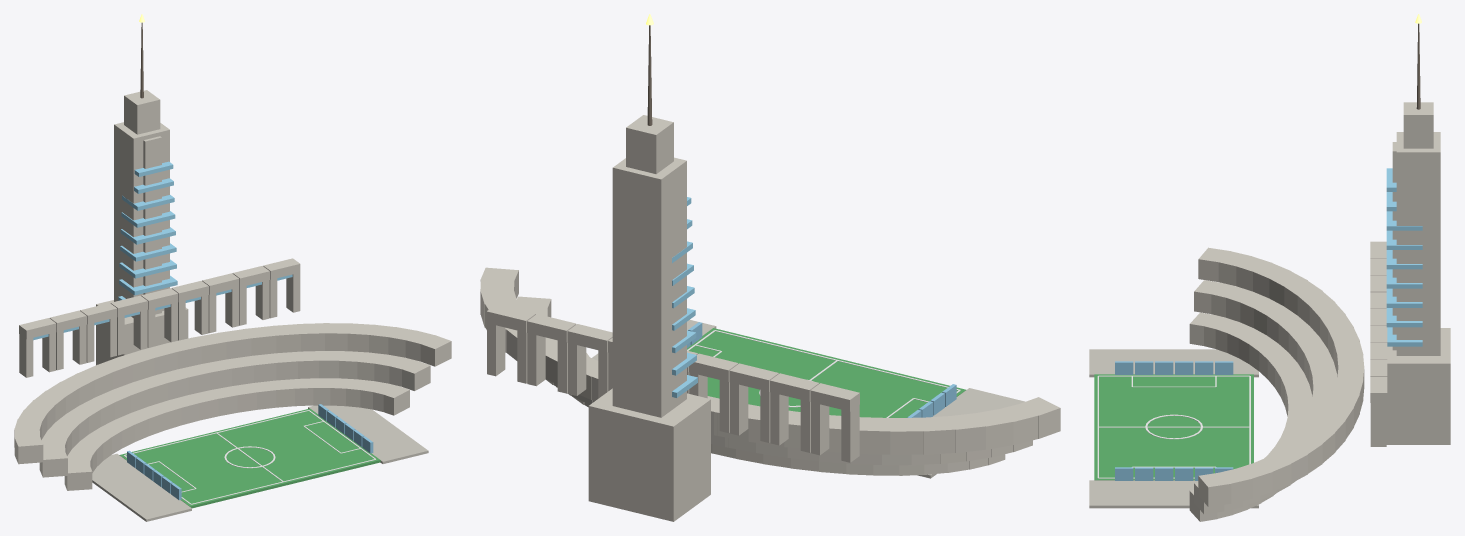
File: SM_Stage_Centenario_UY.glb
The picture shows the model from 3 angles, left to right: view 1: azimuth 30°, elevation 25°; view 2: azimuth 150°, elevation 25°; view 3: azimuth 270°, elevation 25°; orthographic projection. The views are drawn at different scales.
Visible parts, largest first — view 1: SM_Stage_Centenario_UY; view 2: SM_Stage_Centenario_UY; view 3: SM_Stage_Centenario_UY.
Part boxes in pixels (x1=…): SM_Stage_Centenario_UY: x1=14, y1=14, x2=451, y2=521; SM_Stage_Centenario_UY: x1=480, y1=14, x2=1060, y2=521; SM_Stage_Centenario_UY: x1=1089, y1=14, x2=1450, y2=521.
Size of the model in its own units: 56.79 by 45.98 by 36.2.
